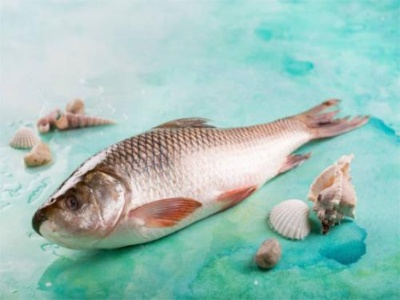rohu: (32, 95, 371, 256)
